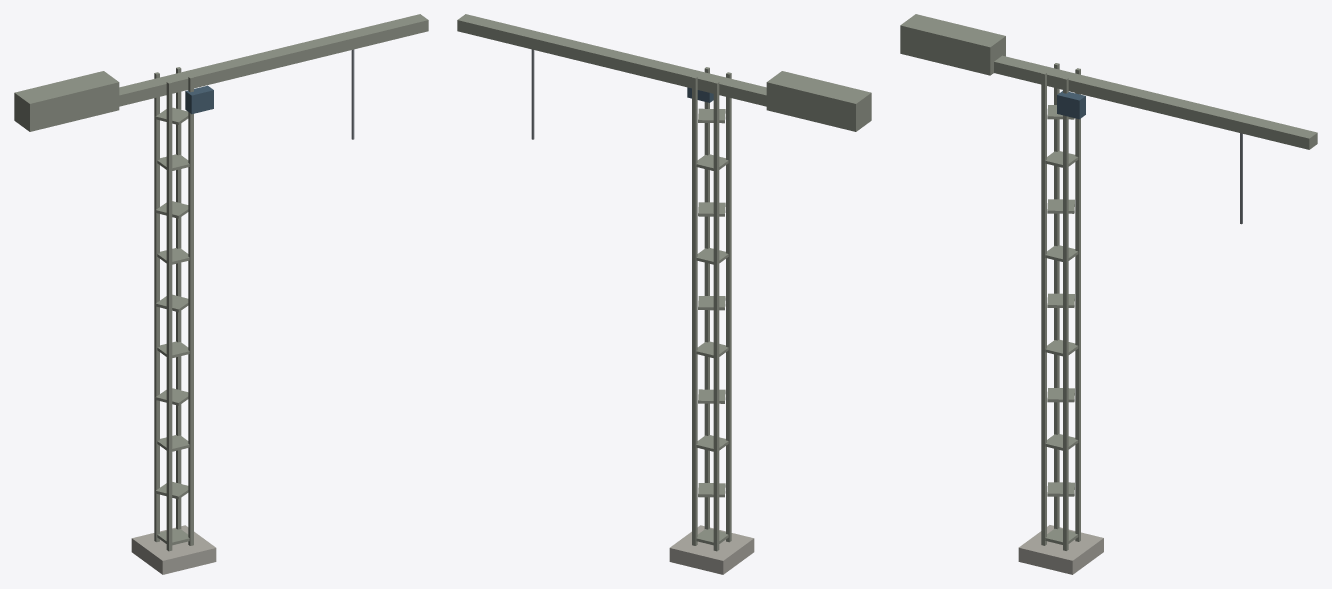
The model's file is tower_crane.glb.
The picture shows the model from 3 angles, left to right: view 1: azimuth 30°, elevation 25°; view 2: azimuth 150°, elevation 25°; view 3: azimuth 330°, elevation 25°; orthographic projection.
Visible parts, largest first — view 1: tower_crane_mesh; view 2: tower_crane_mesh; view 3: tower_crane_mesh.
Part boxes in pixels (bbox=[...]): tower_crane_mesh: bbox=[14, 14, 428, 574]; tower_crane_mesh: bbox=[457, 14, 871, 574]; tower_crane_mesh: bbox=[900, 14, 1317, 574].
Bounding box in the file's own units: 0.45 × 0.53 × 0.06.
